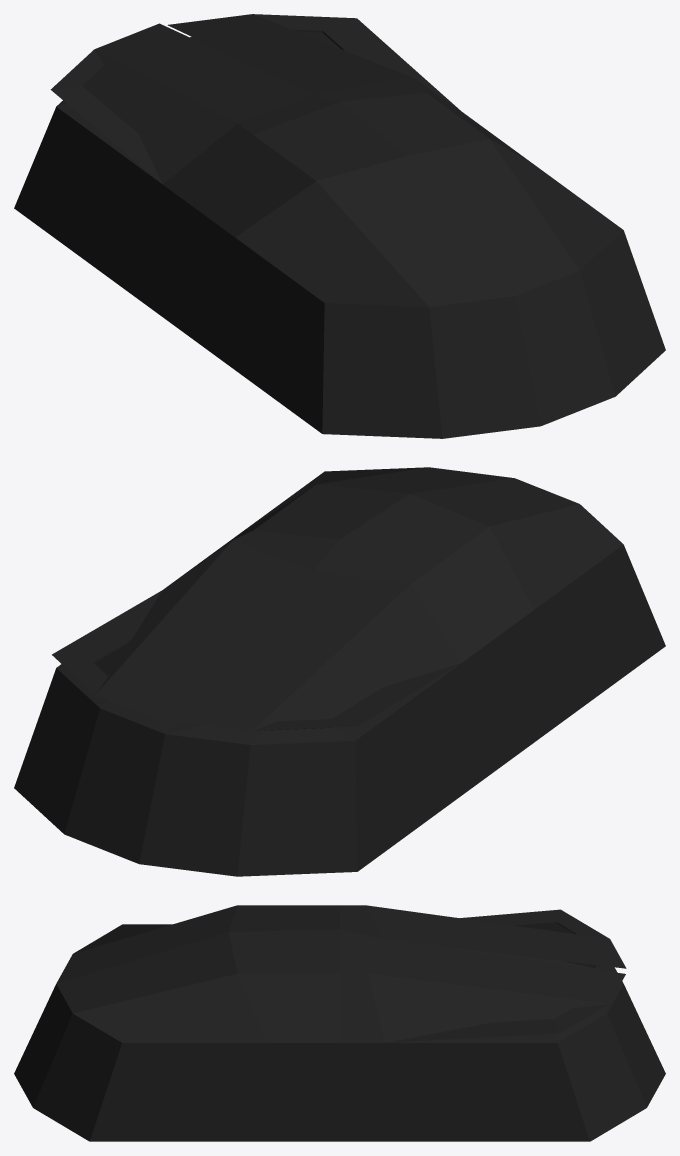
Rendered from mouse.gltf.
The picture shows the model from 3 angles, top to bottom: view 1: azimuth 30°, elevation 25°; view 2: azimuth 150°, elevation 25°; view 3: azimuth 270°, elevation 25°; orthographic projection. The views are drawn at different scales.
Visible parts, largest first — view 1: Cube; view 2: Cube; view 3: Cube.
Part boxes in pixels (x1=…): Cube: x1=14, y1=14, x2=665, y2=438; Cube: x1=14, y1=467, x2=665, y2=876; Cube: x1=14, y1=905, x2=665, y2=1141.
Bounding box in the file's own units: 0.0504 × 0.0249 × 0.102.
1 material, 1 textured.
